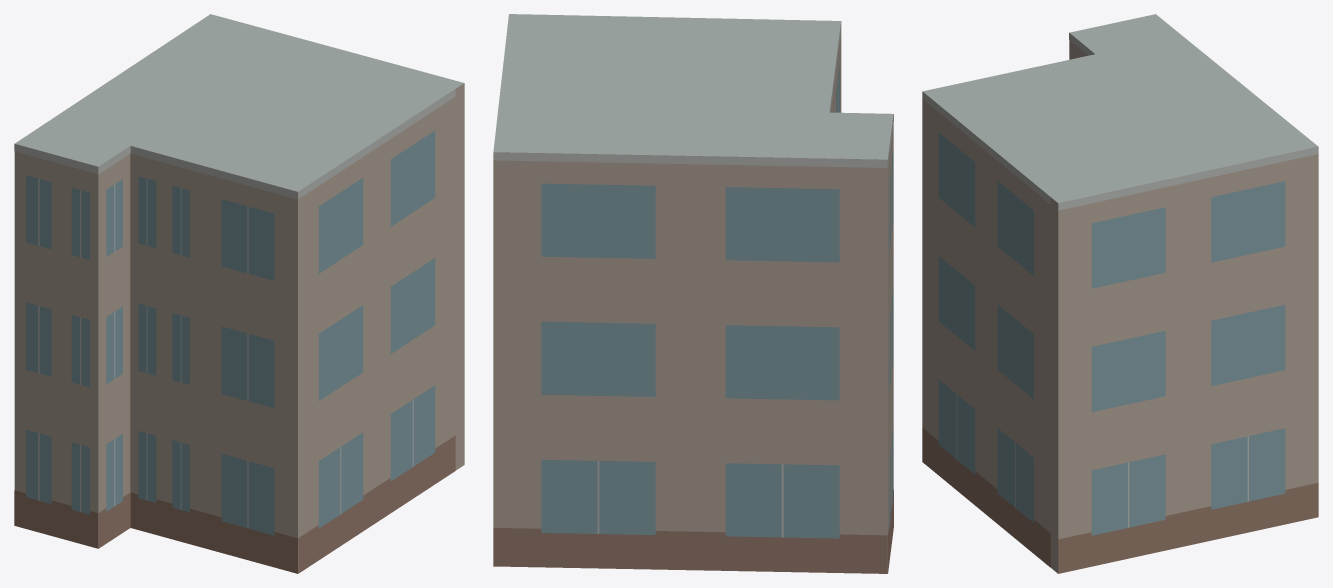
File: survey-upis-32995797.glb
The picture shows the model from 3 angles, left to right: view 1: azimuth 30°, elevation 25°; view 2: azimuth 150°, elevation 25°; view 3: azimuth 270°, elevation 25°; orthographic projection. The views are drawn at different scales.
Parts seen in each view (by area): view 1: survey-upis-32995797.tmp; view 2: survey-upis-32995797.tmp; view 3: survey-upis-32995797.tmp.
Part boxes in pixels (x1,y1,x2,y2): survey-upis-32995797.tmp: (14,14,464,573); survey-upis-32995797.tmp: (493,14,893,573); survey-upis-32995797.tmp: (922,14,1318,573).
Bounding box in the file's own units: 13.37 × 12.2 × 11.83.
